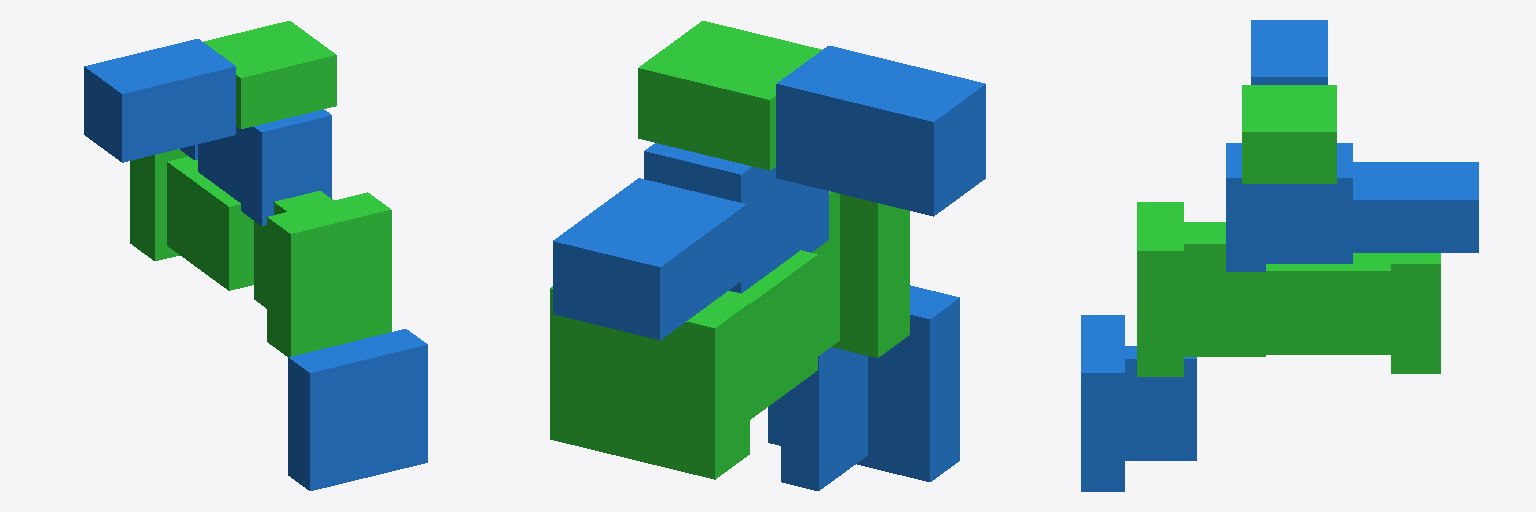
URDF robot description (robot):
<robot name = "robot">
    <link name="Link0">
        <inertial>
            <origin xyz="0 0 2" rpy="0 0 0"/>
            <mass value="0.5531403507093564" />
            <inertia ixx="100" ixy="0" ixz="0" iyy="100" iyz="0" izz="100" />
        </inertial>
        <visual>
            <origin xyz="0 0 2" rpy="0 0 0"/>
            <geometry>
                <box size="1.186872133873722 0.6843487519814965 0.6810106878162174" />
            </geometry>
            <material name="No Sensor">
                <color rgba="0.184 0.553 0.933 1.0"/>
            </material>
        </visual>
        <collision>
            <origin xyz="0 0 2" rpy="0 0 0"/>
            <geometry>
                <box size="1.186872133873722 0.6843487519814965 0.6810106878162174" />
            </geometry>
        </collision>
    </link>
    <joint name="Link0_Link1" type="revolute">
       <parent link="Link0"/>
       <child  link="Link1"/>
       <origin rpy="0 0 0" xyz="0.593436066936861 0 2" />
       <axis xyz="1 0 0"/>
       <limit effort="0.0" lower="-3.14159" upper="3.14159" velocity="0.0"/>
    </joint>
    <link name="Link1">
        <inertial>
            <origin xyz="0.4982385752483192 0 0" rpy="0 0 0"/>
            <mass value="0.42914465453749523" />
            <inertia ixx="100" ixy="0" ixz="0" iyy="100" iyz="0" izz="100" />
        </inertial>
        <visual>
            <origin xyz="0.4982385752483192 0 0" rpy="0 0 0"/>
            <geometry>
                <box size="0.9964771504966384 0.8459759495755602 0.5090709865943224" />
            </geometry>
            <material name="Sensor">
                <color rgba="0.239 0.875 0.282 1.0"/>
            </material>
        </visual>
        <collision>
            <origin xyz="0.4982385752483192 0 0" rpy="0 0 0"/>
            <geometry>
                <box size="0.9964771504966384 0.8459759495755602 0.5090709865943224" />
            </geometry>
        </collision>
    </link>
    <joint name="Link1_Link2" type="revolute">
       <parent link="Link1"/>
       <child  link="Link2"/>
       <origin rpy="0 0 0" xyz="0.4982385752483192 0.0 -0.2545354932971612" />
       <axis xyz="0 1 0"/>
       <limit effort="0.0" lower="-3.14159" upper="3.14159" velocity="0.0"/>
    </joint>
    <link name="Link2">
        <inertial>
            <origin xyz="0.0 0.0 -0.4657770459097652" rpy="0 0 0"/>
            <mass value="0.7786798545890827" />
            <inertia ixx="100" ixy="0" ixz="0" iyy="100" iyz="0" izz="100" />
        </inertial>
        <visual>
            <origin xyz="0.0 0.0 -0.4657770459097652" rpy="0 0 0"/>
            <geometry>
                <box size="0.7331700652315026 1.1401083766800943 0.9315540918195304" />
            </geometry>
            <material name="No Sensor">
                <color rgba="0.184 0.553 0.933 1.0"/>
            </material>
        </visual>
        <collision>
            <origin xyz="0.0 0.0 -0.4657770459097652" rpy="0 0 0"/>
            <geometry>
                <box size="0.7331700652315026 1.1401083766800943 0.9315540918195304" />
            </geometry>
        </collision>
    </link>
    <joint name="Link2_Link3" type="revolute">
       <parent link="Link2"/>
       <child  link="Link3"/>
       <origin rpy="0 0 0" xyz="0.0 0.5700541883400472 -0.4657770459097652" />
       <axis xyz="0 1 0"/>
       <limit effort="0.0" lower="-3.14159" upper="3.14159" velocity="0.0"/>
    </joint>
    <link name="Link3">
        <inertial>
            <origin xyz="0.0 0.5633769622129867 0.0" rpy="0 0 0"/>
            <mass value="0.4821710045817255" />
            <inertia ixx="100" ixy="0" ixz="0" iyy="100" iyz="0" izz="100" />
        </inertial>
        <visual>
            <origin xyz="0.0 0.5633769622129867 0.0" rpy="0 0 0"/>
            <geometry>
                <box size="0.8131265282888835 1.1267539244259734 0.5262763826645223" />
            </geometry>
            <material name="No Sensor">
                <color rgba="0.184 0.553 0.933 1.0"/>
            </material>
        </visual>
        <collision>
            <origin xyz="0.0 0.5633769622129867 0.0" rpy="0 0 0"/>
            <geometry>
                <box size="0.8131265282888835 1.1267539244259734 0.5262763826645223" />
            </geometry>
        </collision>
    </link>
    <joint name="Link3_Link4" type="revolute">
       <parent link="Link3"/>
       <child  link="Link4"/>
       <origin rpy="0 0 0" xyz="0.0 0.5633769622129867 -0.26313819133226113" />
       <axis xyz="1 0 0"/>
       <limit effort="0.0" lower="-3.14159" upper="3.14159" velocity="0.0"/>
    </joint>
    <link name="Link4">
        <inertial>
            <origin xyz="0.0 0.0 -0.5448967639585106" rpy="0 0 0"/>
            <mass value="0.6112452035545675" />
            <inertia ixx="100" ixy="0" ixz="0" iyy="100" iyz="0" izz="100" />
        </inertial>
        <visual>
            <origin xyz="0.0 0.0 -0.5448967639585106" rpy="0 0 0"/>
            <geometry>
                <box size="1.2468474753997545 0.44983983332308586 1.0897935279170212" />
            </geometry>
            <material name="Sensor">
                <color rgba="0.239 0.875 0.282 1.0"/>
            </material>
        </visual>
        <collision>
            <origin xyz="0.0 0.0 -0.5448967639585106" rpy="0 0 0"/>
            <geometry>
                <box size="1.2468474753997545 0.44983983332308586 1.0897935279170212" />
            </geometry>
        </collision>
    </link>
    <joint name="Link4_Link5" type="revolute">
       <parent link="Link4"/>
       <child  link="Link5"/>
       <origin rpy="0 0 0" xyz="0.0 -0.22491991666154293 -0.5448967639585106" />
       <axis xyz="0 0 1"/>
       <limit effort="0.0" lower="-3.14159" upper="3.14159" velocity="0.0"/>
    </joint>
    <link name="Link5">
        <inertial>
            <origin xyz="0.0 -0.557026958702576 0.0" rpy="0 0 0"/>
            <mass value="0.9230201215083949" />
            <inertia ixx="100" ixy="0" ixz="0" iyy="100" iyz="0" izz="100" />
        </inertial>
        <visual>
            <origin xyz="0.0 -0.557026958702576 0.0" rpy="0 0 0"/>
            <geometry>
                <box size="0.9923419607916683 1.114053917405152 0.8349175744816693" />
            </geometry>
            <material name="Sensor">
                <color rgba="0.239 0.875 0.282 1.0"/>
            </material>
        </visual>
        <collision>
            <origin xyz="0.0 -0.557026958702576 0.0" rpy="0 0 0"/>
            <geometry>
                <box size="0.9923419607916683 1.114053917405152 0.8349175744816693" />
            </geometry>
        </collision>
    </link>
    <joint name="Link5_Link6" type="revolute">
       <parent link="Link5"/>
       <child  link="Link6"/>
       <origin rpy="0 0 0" xyz="0.0 -1.114053917405152 0.0" />
       <axis xyz="0 1 0"/>
       <limit effort="0.0" lower="-3.14159" upper="3.14159" velocity="0.0"/>
    </joint>
    <link name="Link6">
        <inertial>
            <origin xyz="0.0 -0.36675996565735586 0.0" rpy="0 0 0"/>
            <mass value="0.3935986981348137" />
            <inertia ixx="100" ixy="0" ixz="0" iyy="100" iyz="0" izz="100" />
        </inertial>
        <visual>
            <origin xyz="0.0 -0.36675996565735586 0.0" rpy="0 0 0"/>
            <geometry>
                <box size="0.48238126387694147 0.7335199313147117 1.1123752135825575" />
            </geometry>
            <material name="Sensor">
                <color rgba="0.239 0.875 0.282 1.0"/>
            </material>
        </visual>
        <collision>
            <origin xyz="0.0 -0.36675996565735586 0.0" rpy="0 0 0"/>
            <geometry>
                <box size="0.48238126387694147 0.7335199313147117 1.1123752135825575" />
            </geometry>
        </collision>
    </link>
    <joint name="Link6_Link7" type="revolute">
       <parent link="Link6"/>
       <child  link="Link7"/>
       <origin rpy="0 0 0" xyz="0.0 -0.7335199313147117 0.0" />
       <axis xyz="0 1 0"/>
       <limit effort="0.0" lower="-3.14159" upper="3.14159" velocity="0.0"/>
    </joint>
    <link name="Link7">
        <inertial>
            <origin xyz="0.0 -0.21175526842613662 0.0" rpy="0 0 0"/>
            <mass value="0.551238417633081" />
            <inertia ixx="100" ixy="0" ixz="0" iyy="100" iyz="0" izz="100" />
        </inertial>
        <visual>
            <origin xyz="0.0 -0.21175526842613662 0.0" rpy="0 0 0"/>
            <geometry>
                <box size="1.0478045046781688 0.42351053685227324 1.242209928883655" />
            </geometry>
            <material name="Sensor">
                <color rgba="0.239 0.875 0.282 1.0"/>
            </material>
        </visual>
        <collision>
            <origin xyz="0.0 -0.21175526842613662 0.0" rpy="0 0 0"/>
            <geometry>
                <box size="1.0478045046781688 0.42351053685227324 1.242209928883655" />
            </geometry>
        </collision>
    </link>
    <joint name="Link7_Link8" type="revolute">
       <parent link="Link7"/>
       <child  link="Link8"/>
       <origin rpy="0 0 0" xyz="0.0 -0.21175526842613662 -0.6211049644418275" />
       <axis xyz="1 0 0"/>
       <limit effort="0.0" lower="-3.14159" upper="3.14159" velocity="0.0"/>
    </joint>
    <link name="Link8">
        <inertial>
            <origin xyz="0.0 0.0 -0.5022006576638969" rpy="0 0 0"/>
            <mass value="0.18099964149636769" />
            <inertia ixx="100" ixy="0" ixz="0" iyy="100" iyz="0" izz="100" />
        </inertial>
        <visual>
            <origin xyz="0.0 0.0 -0.5022006576638969" rpy="0 0 0"/>
            <geometry>
                <box size="0.28041224118736663 0.6426484632796582 1.0044013153277938" />
            </geometry>
            <material name="No Sensor">
                <color rgba="0.184 0.553 0.933 1.0"/>
            </material>
        </visual>
        <collision>
            <origin xyz="0.0 0.0 -0.5022006576638969" rpy="0 0 0"/>
            <geometry>
                <box size="0.28041224118736663 0.6426484632796582 1.0044013153277938" />
            </geometry>
        </collision>
    </link>
    <joint name="Link8_Link9" type="revolute">
       <parent link="Link8"/>
       <child  link="Link9"/>
       <origin rpy="0 0 0" xyz="0.0 -0.3213242316398291 -0.5022006576638969" />
       <axis xyz="0 0 1"/>
       <limit effort="0.0" lower="-3.14159" upper="3.14159" velocity="0.0"/>
    </joint>
    <link name="Link9">
        <inertial>
            <origin xyz="0.0 -0.19606332106701974 0.0" rpy="0 0 0"/>
            <mass value="0.5633761927054595" />
            <inertia ixx="100" ixy="0" ixz="0" iyy="100" iyz="0" izz="100" />
        </inertial>
        <visual>
            <origin xyz="0.0 -0.19606332106701974 0.0" rpy="0 0 0"/>
            <geometry>
                <box size="1.223739682897925 0.39212664213403947 1.17404054865323" />
            </geometry>
            <material name="No Sensor">
                <color rgba="0.184 0.553 0.933 1.0"/>
            </material>
        </visual>
        <collision>
            <origin xyz="0.0 -0.19606332106701974 0.0" rpy="0 0 0"/>
            <geometry>
                <box size="1.223739682897925 0.39212664213403947 1.17404054865323" />
            </geometry>
        </collision>
    </link>
</robot>

--- What the picture shows (computed from the rendered views, not written in the file) ---
The picture shows the robot from 3 angles, left to right: view 1: azimuth 30°, elevation 25°; view 2: azimuth 150°, elevation 25°; view 3: azimuth 270°, elevation 25°; orthographic projection.
Model robot with 10 links and 9 joints (9 revolute), rooted at Link0, posed all joints at 0.
Visible links, largest first — view 1: Link9, Link7, Link0, Link2, Link1, Link5, Link4, Link6; view 2: Link4, Link0, Link3, Link1, Link9, Link2, Link7, Link8, Link5, Link6; view 3: Link5, Link2, Link3, Link1, Link6, Link7, Link9, Link8, Link4, Link0.
Boxes of the visible links, x1,y1,x2,y2 form: Link9: [288, 329, 427, 490]; Link7: [267, 192, 391, 356]; Link0: [84, 39, 235, 162]; Link2: [198, 109, 331, 225]; Link1: [204, 21, 336, 128]; Link5: [167, 156, 253, 290]; Link4: [130, 149, 187, 260]; Link6: [254, 191, 333, 308]; Link4: [550, 286, 749, 479]; Link0: [776, 46, 985, 216]; Link3: [553, 178, 746, 339]; Link1: [638, 21, 821, 170]; Link9: [768, 285, 959, 481]; Link2: [644, 143, 828, 293]; Link7: [832, 194, 909, 357]; Link8: [781, 347, 867, 490]; Link5: [722, 250, 817, 419]; Link6: [812, 191, 839, 355]; Link5: [1266, 253, 1390, 354]; Link2: [1226, 143, 1352, 271]; Link3: [1353, 162, 1478, 252]; Link1: [1242, 85, 1336, 183]; Link6: [1184, 222, 1265, 356]; Link7: [1137, 202, 1183, 376]; Link9: [1081, 315, 1124, 491]; Link8: [1125, 346, 1196, 460]; Link4: [1391, 253, 1440, 373]; Link0: [1251, 20, 1327, 84].
Size in the robot's own frame: 2.31 by 3.56 by 3.58 metres.
Geometry: primitives only (box / cylinder / sphere), no mesh files.